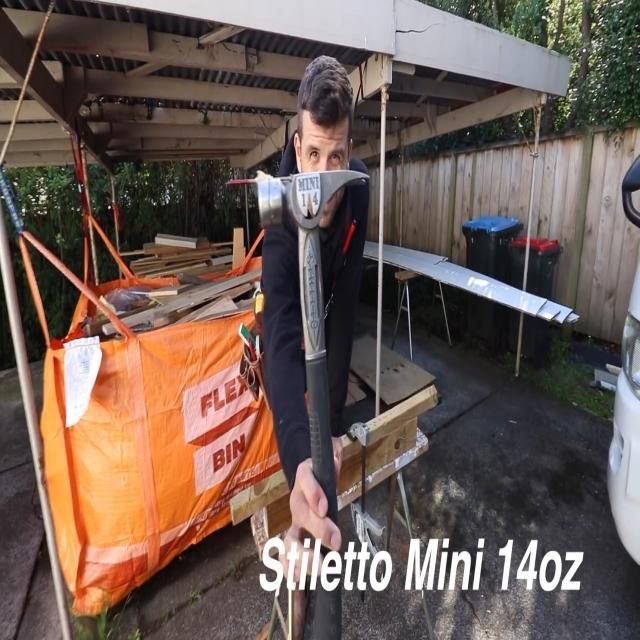hammer: (257, 172, 370, 640)
